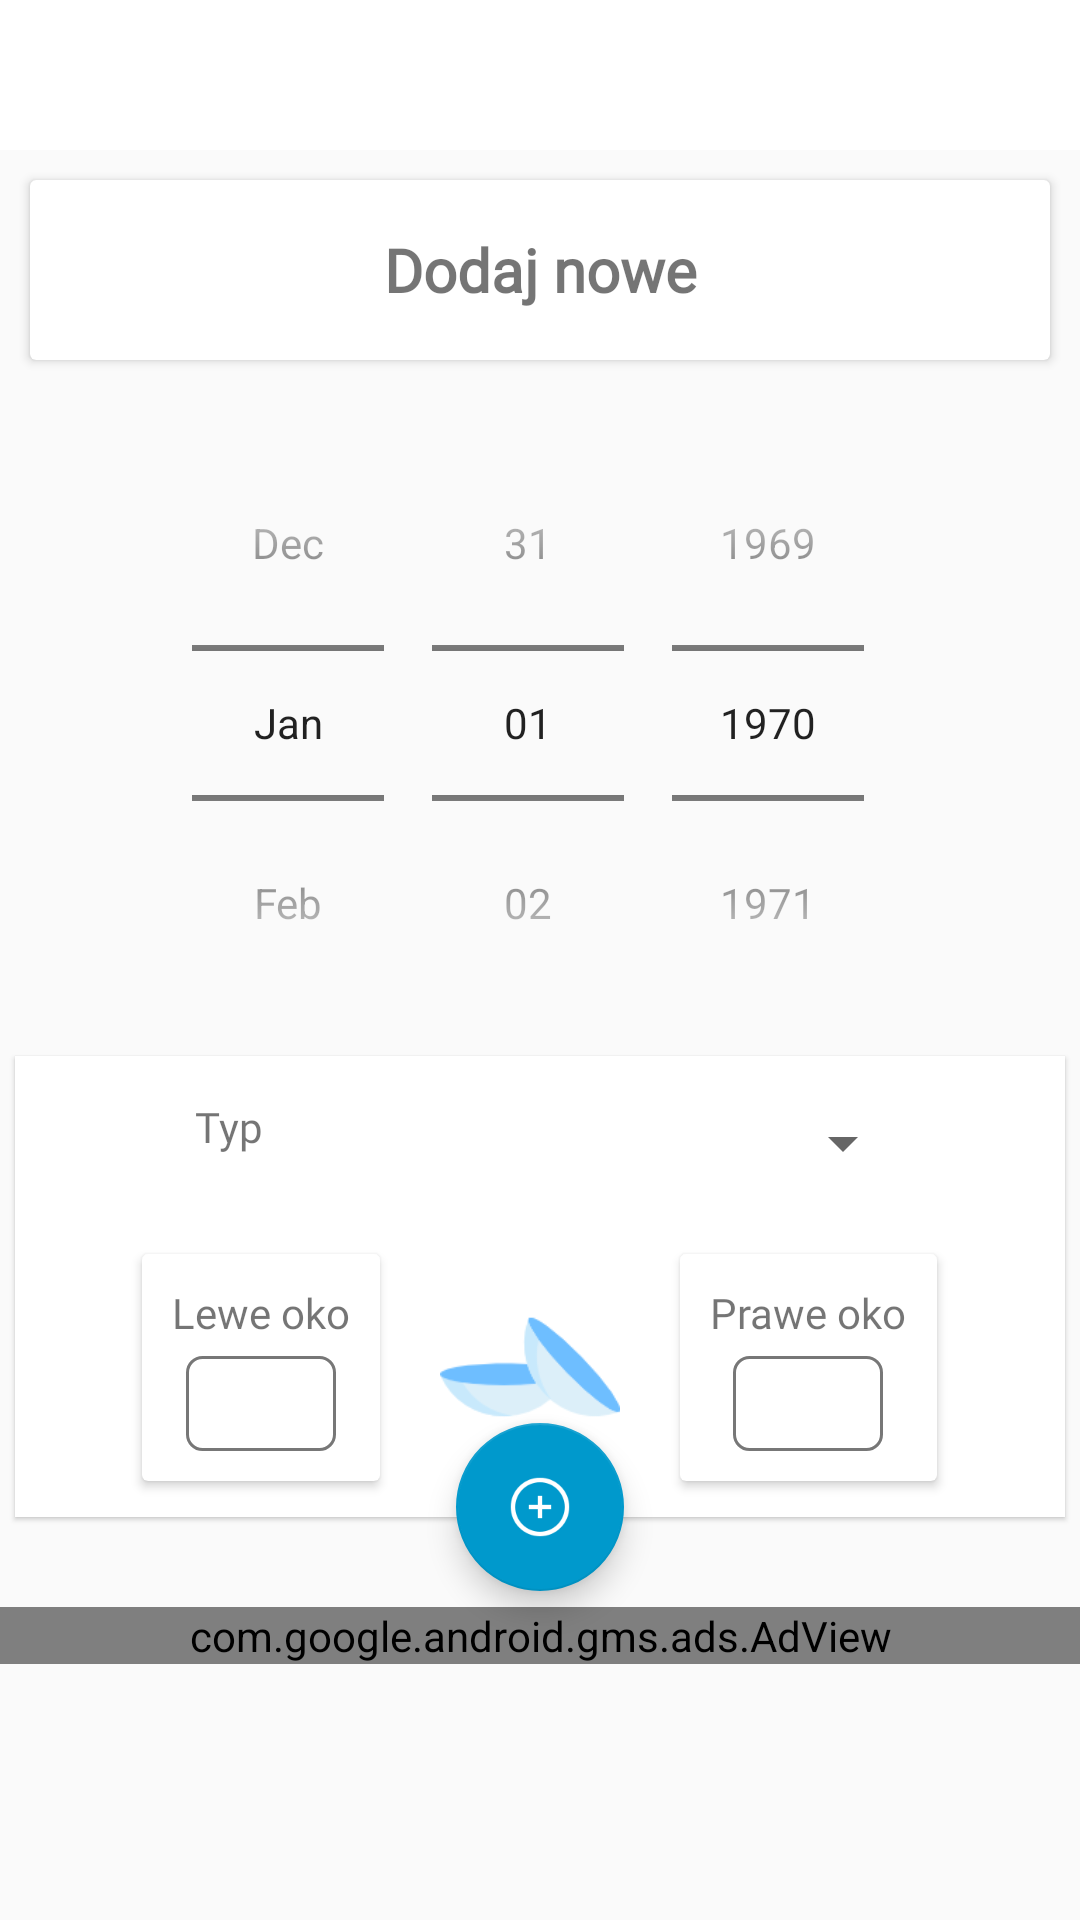

Where to tap for icons on this 1080×1920 app screen, as (x,y):
add: (540,1507)
contactlens: (530,1366)
